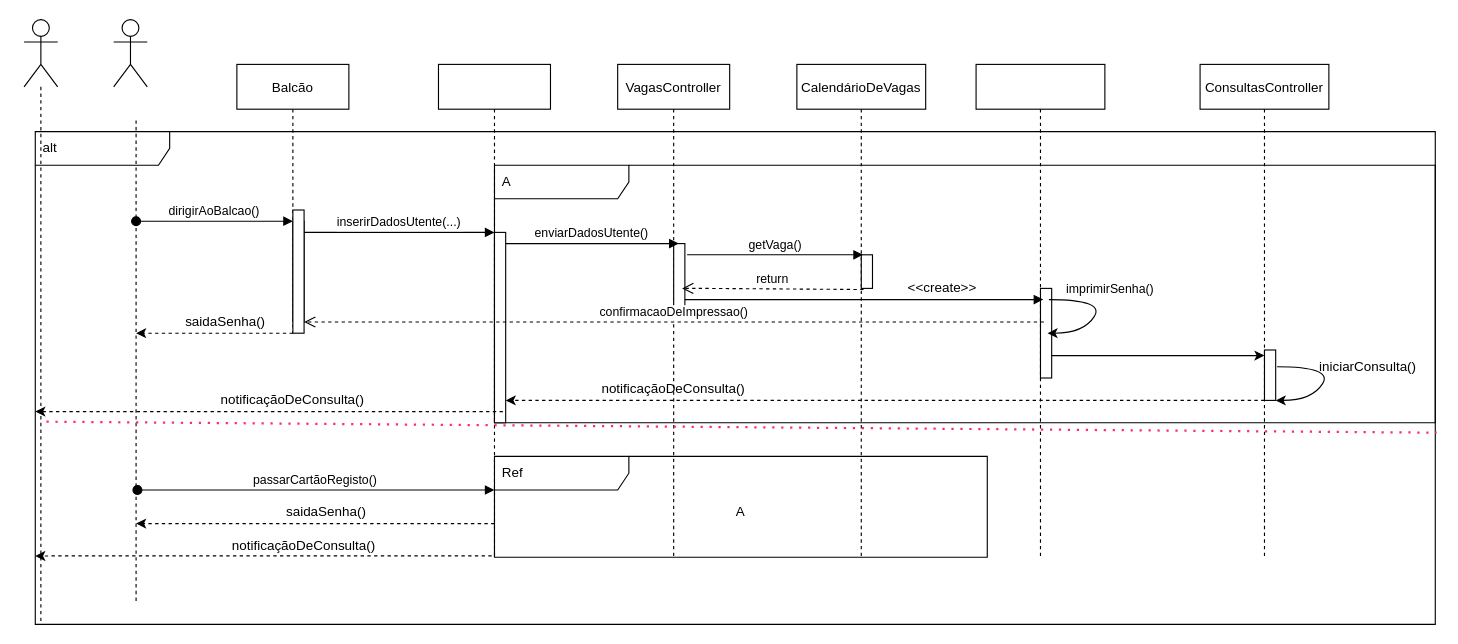
The diagram is 1458 pixels wide and 644 high, and some of its shapes have lost their labels. The centre of each missing label's shape, as x and y in pixels:
Ecrã: the point at 493,310
ImpressaoDeSenha: the point at 1040,310
medico: the point at 40,52
u: utente: the point at 130,52
